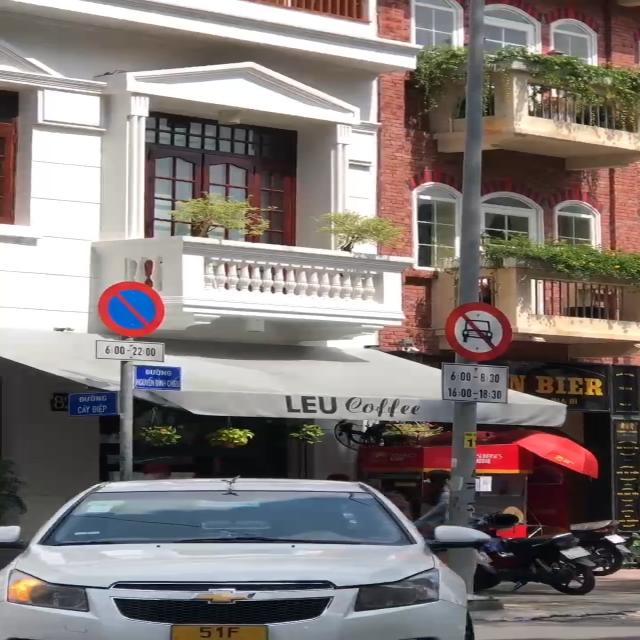Bien bao cam do xe: (96, 280, 172, 338)
Bien bao cam xe oto: (442, 301, 522, 362)
